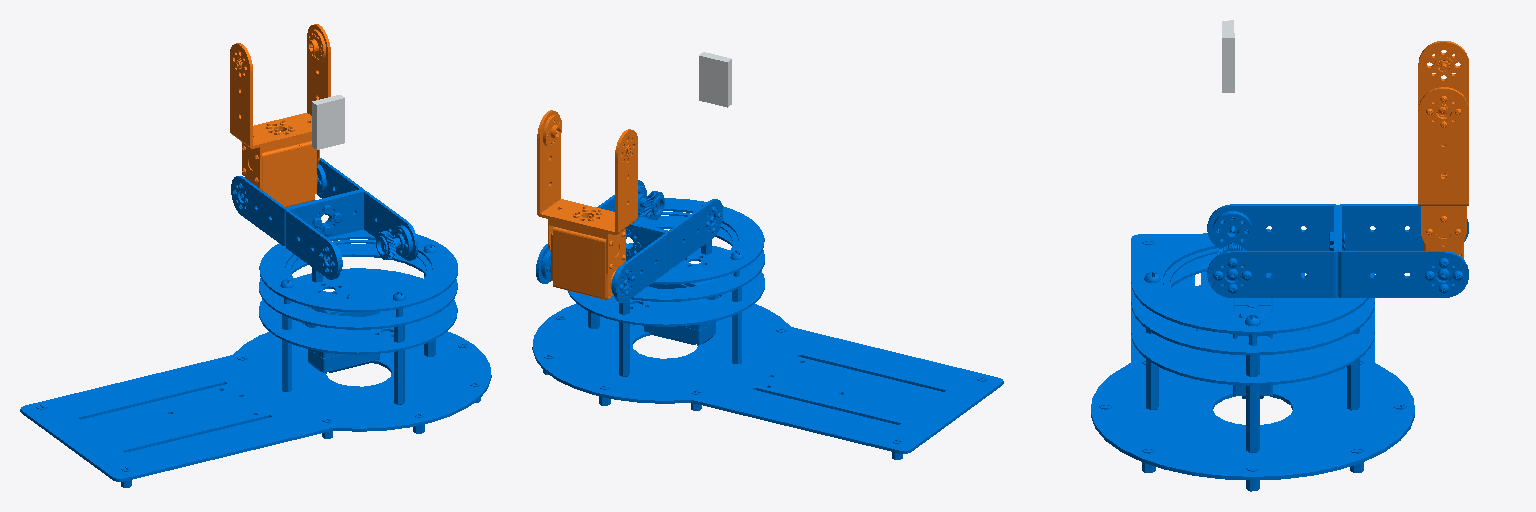
The robot description file, URDF, robot "robot_arm":
<robot
  name="robot_arm">
  <link
    name="base_link">
    <inertial>
      <origin   
        xyz="0 0 0"
        rpy="0 0 0" />
      <mass
        value="0.367388045679842" />
      <inertia
        ixx="0.00063515570955527"
        ixy="-1.5918859119498E-07"
        ixz="-0.000228314011654331"
        iyy="0.00184092685879747"
        iyz="-2.2323912295793E-08"
        izz="0.00204071615322817" />
    </inertial>
    <visual>
      <origin
        xyz="0 0 0"
        rpy="0 0 0" />
      <geometry>
        <mesh
          filename="base_link.STL" />
      </geometry>
      <material
        name="">
        <color
          rgba="0 0.517647058823529 0.929411764705882 1" />
      </material>
    </visual>
  </link>
  <link
    name="link1">
    <inertial>
      <origin
        xyz="0.000940804880715196 2.52378505405722E-05 0.0324611634628793"
        rpy="0 0 0" />
      <mass
        value="0.185774446093755" />
      <inertia
        ixx="0.000111160714624096"
        ixy="-1.68302859753309E-07"
        ixz="-2.43601078404654E-06"
        iyy="0.0001108026194047"
        iyz="1.16928075885404E-07"
        izz="0.000164222627116852" />
    </inertial>
    <visual>
      <origin
        xyz="0 0 0"
        rpy="0 0 0" />
      <geometry>
        <mesh
          filename="link1.STL" />
      </geometry>
      <material name="">
        <color
          rgba="0.898039215686275 0.517647058823529 0.029411764705882 1" />
      </material>
    </visual>
  </link>
  <joint
    name="joint1"
    type="revolute">
    <origin
      xyz="0 0 0.048955"
      rpy="0 0 0" />
    <parent
      link="base_link" />
    <child
      link="link1" />
    <axis
      xyz="0 0 1" />
 <limit velocity="4.8" effort="100"  lower="-3.14" upper="3.14"  />
  </joint>
  <link
    name="link2">
    <inertial>
      <origin
        xyz="0.0493082979525453 7.60607523062062E-07 0.00194840079141493"
        rpy="0 0 0" />
      <mass
        value="0.0593810073432616" />
      <inertia
        ixx="3.58910433676227E-05"
        ixy="2.23430085799849E-09"
        ixz="1.97627368167861E-06"
        iyy="0.0001094150051069"
        iyz="-6.23876303800842E-10"
        izz="7.89024333670068E-05" />
    </inertial>
    <visual>
      <origin
        xyz="0 0 0"
        rpy="0 0 0" />
      <geometry>
        <mesh
          filename="link2.STL" />
      </geometry>
      <material
        name="">
        <color
          rgba="0 0.517647058823529 0.929411764705882 1" />
      </material>
    </visual>
  </link>
  <joint
    name="joint2"
    type="revolute">
    <origin
      xyz="0 -0.01 0.046545"
      rpy="1.5708 3.6349E-31 1.5708" />
    <parent
      link="link1" />
    <child
      link="link2" />
    <axis
      xyz="0 0 1" />
<limit velocity="4.8" effort="1"  />
  </joint>
  <link
    name="link3">
    <inertial>
      <origin
        xyz="0.0228993665668384 -1.31326095756668E-05 -0.00230261687941265"
        rpy="0 0 0" />
      <mass
        value="0.104242639151535" />
      <inertia
        ixx="2.85953679420187E-05"
        ixy="9.01989426747073E-08"
        ixz="-9.65479944609097E-07"
        iyy="9.43404332553144E-05"
        iyz="-2.98667163492179E-08"
        izz="7.38093169287506E-05" />
    </inertial>
    <visual>
      <origin
        xyz="0 0 0"
        rpy="0 0 0" />
      <geometry>
        <mesh
          filename="link3.STL" />
      </geometry>
      <material
        name="">
        <color
          rgba="0.998039215686275 0.517647058823529 0.129411764705882 1" />
      </material>
    </visual>
  </link>
  <joint
    name="joint3"
    type="revolute">
    <origin
      xyz="0.104 0 0"
      rpy="3.1416 -1.0106E-15 1.5708" />
    <parent
      link="link2" />
    <child
      link="link3" />
    <axis
      xyz="0 0 1" />
<limit velocity="4.8" effort="1" />
  </joint>
  <link
    name="link4">
    <inertial>
      <origin
        xyz="0.018016230451332 -0.0113594014513513 0.00410138082506685"
        rpy="0 0 0" />
      <mass
        value="0.130735663937828" />
      <inertia
        ixx="3.94104287146871E-05"
        ixy="1.82464961893516E-07"
        ixz="-1.70804203001581E-06"
        iyy="6.42441837456243E-05"
        iyz="9.11674085867087E-07"
        izz="7.71705337599841E-05" />
    </inertial>
    <visual>
      <origin
        xyz="0 0 0"
        rpy="0 0 0" />
      <geometry>
        <mesh
          filename="link4.STL" />
      </geometry>
      <material
        name="">
        <color
          rgba="0 0.517647058823529 0.929411764705882 1" />
      </material>
    </visual>
  </link>
  <joint
    name="joint4"
    type="revolute">
    <origin
      xyz="0.088419 -0.0007415 0"
      rpy="-3.5109E-17 7.3879E-15 -1.5621" />
    <parent
      link="link3" />
    <child
      link="link4" />
    <axis
      xyz="0 0 1" />
<limit velocity="4.8" effort="1"  />
  </joint>
  <link
    name="link5">
    <inertial>
      <origin
        xyz="-0.0018261 -0.0097324 0.057182"
        rpy="0 0 0" />
      <mass
        value="0.11513" />
      <inertia
        ixx="8.1374E-05"
        ixy="-8.3834E-08"
        ixz="-6.9517E-07"
        iyy="8.7042E-05"
        iyz="-8.918E-06"
        izz="5.6287E-05" />
    </inertial>
    <visual>
      <origin
        xyz="0 0 0"
        rpy="0 0 0" />
      <geometry>
        <mesh
          filename="link5.STL" />
      </geometry>
      <material
        name="">
        <color
          rgba="0 0 0 1" />
      </material>
    </visual>
  </link>
  <joint
    name="joint5"
    type="revolute">
    <origin
      xyz="0.0419 -0.00036565 0.0034694"
      rpy="-1.5708 1.6081E-16 -1.5795" />
    <parent
      link="link4" />
    <child
      link="link5" />
    <axis
      xyz="0 0 1" />
<limit velocity="4.8" effort="1"  />
  </joint>
  <link
    name="link6">
    <inertial>
      <origin
        xyz="0 -3.46944695195361E-18 0.003"
        rpy="0 0 0" />
      <mass
        value="0.00972000000000001" />
      <inertia
        ixx="3.53160000000001E-07"
        ixy="-1.41593587496133E-21"
        ixz="2.26563445043357E-22"
        iyy="7.58160000000002E-07"
        iyz="-3.92910790962672E-23"
        izz="1.053E-06" />
    </inertial>
    <visual>
      <origin
        xyz="0 0 0"
        rpy="0 0 0" />
      <geometry>
        <mesh
          filename="link6.STL" />
      </geometry>
      <material
        name="">
        <color
          rgba="0.898039215686275 0.917647058823529 0.929411764705882 1" />
      </material>
    </visual>
  </link>
  <joint
    name="joint6"
    type="fixed">
    <origin
      xyz="-0.0039777 -0.024675 0.060484"
      rpy="-0.0087266 -2.255E-15 1.9679E-17" />
    <parent
      link="link5" />
    <child
      link="link6" />
    <axis
      xyz="0 0 0" />
  </joint>
</robot>

--- Facts derived from the render (not from the file) ---
Views: 3 orthographic renders of the robot side by side, from view 1: azimuth 30°, elevation 25°; view 2: azimuth 150°, elevation 25°; view 3: azimuth 270°, elevation 25°.
Robot: robot_arm — 7 links, 6 joints (5 revolute, 1 fixed); root link base_link; default pose: all joints at 0.
Visible links, largest first — view 1: base_link, link2, link3, link6; view 2: base_link, link3, link2, link6; view 3: base_link, link2, link3, link6.
Boxes of the visible links, x1=… form: base_link: x1=20, y1=229, x2=491, y2=487; link2: x1=231, y1=158, x2=417, y2=279; link3: x1=230, y1=24, x2=330, y2=206; link6: x1=312, y1=95, x2=344, y2=149; base_link: x1=532, y1=198, x2=1003, y2=459; link3: x1=537, y1=110, x2=637, y2=299; link2: x1=536, y1=180, x2=722, y2=302; link6: x1=699, y1=52, x2=731, y2=107; base_link: x1=1091, y1=229, x2=1414, y2=491; link2: x1=1207, y1=204, x2=1468, y2=297; link3: x1=1418, y1=41, x2=1468, y2=258; link6: x1=1222, y1=20, x2=1234, y2=92.
Size in the robot's own frame: 0.2829 by 0.1864 by 0.2029 metres.
4 mesh visuals loaded from 7 distinct referenced files (4 binary STL); not drawn: 3 (reference not matched to a file when rendering).